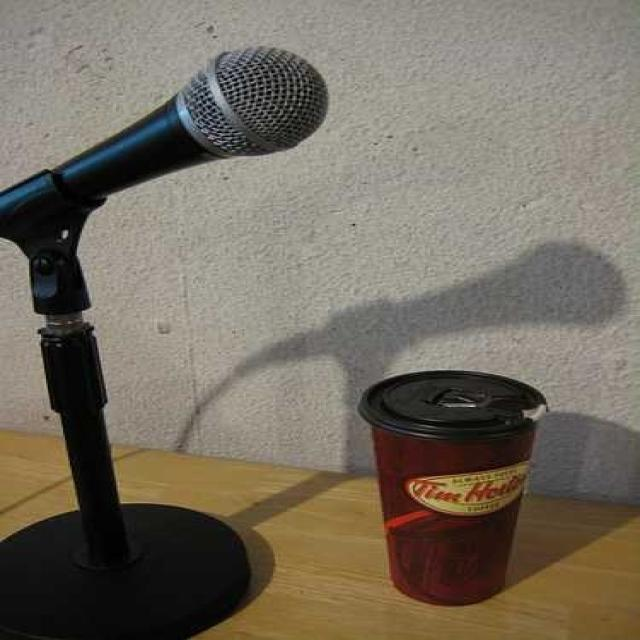microphone: (2, 46, 326, 262)
